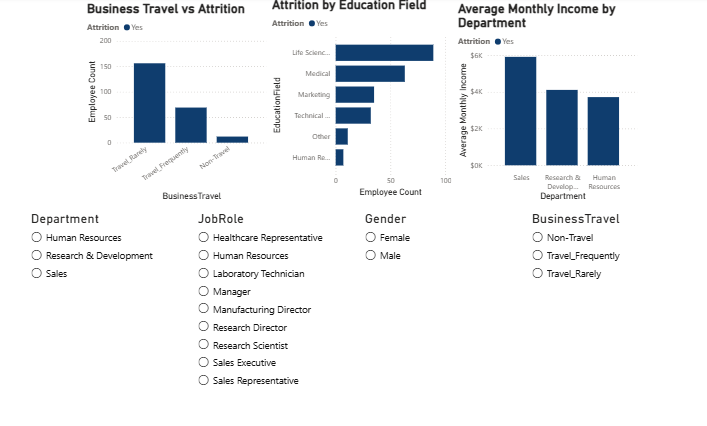

The page's visual inventory and layout, read from the dashboard file:
{"tool":"powerbi","page":{"name":"Page 2","canvas":[1280,720],"ordinal":1},"visuals":[{"type":"group","id":"g1","title":"Group 1","box":[173,0,934,347.7],"z":0},{"type":"clusteredColumnChart","title":"Business Travel vs Attrition","fields":{"Category":["hr_cleaned.BusinessTravel"],"Y":["hr_cleaned.Employee Count"],"Series":["hr_cleaned.Attrition"]},"box":[173,7.4,311.3,340.3],"z":0,"group":"g1"},{"type":"clusteredBarChart","title":"Attrition by Education Field","fields":{"Category":["hr_cleaned.EducationField"],"Y":["hr_cleaned.Employee Count"],"Series":["hr_cleaned.Attrition"]},"box":[484.3,0,311.3,340.3],"z":1000,"group":"g1"},{"type":"clusteredColumnChart","title":"Average Monthly Income by Department","fields":{"Category":["hr_cleaned.Department"],"Y":["hr_cleaned.Average Monthly Income"],"Series":["hr_cleaned.Attrition"]},"box":[795.6,7.4,311.3,340.3],"z":2000,"group":"g1"},{"type":"listSlicer","fields":{"Values":["hr_cleaned.Department"]},"box":[79,359.5,280.5,278.8],"z":3000},{"type":"listSlicer","fields":{"Values":["hr_cleaned.JobRole"]},"box":[359.5,359.5,280.5,329.2],"z":4000},{"type":"listSlicer","fields":{"Values":["hr_cleaned.Gender"]},"box":[640,359.5,280.5,151.2],"z":5000},{"type":"listSlicer","fields":{"Values":["hr_cleaned.BusinessTravel"]},"box":[920.5,359.5,280.5,151.2],"z":6000}]}

Visuals, with their boxes on the page's 1280x720 design canvas (x1, y1, x2, y2). These are canvas units, not pixel positions in the 707x426 screenshot, which may show the page scaled, cropped or inside an application window:
"Group 1" group: bbox(173, 0, 1107, 348)
"Business Travel vs Attrition" clusteredColumnChart: bbox(173, 7, 484, 348)
"Attrition by Education Field" clusteredBarChart: bbox(484, 0, 796, 340)
"Average Monthly Income by Department" clusteredColumnChart: bbox(796, 7, 1107, 348)
listSlicer - hr_cleaned.Department: bbox(79, 360, 360, 638)
listSlicer - hr_cleaned.JobRole: bbox(360, 360, 640, 689)
listSlicer - hr_cleaned.Gender: bbox(640, 360, 920, 511)
listSlicer - hr_cleaned.BusinessTravel: bbox(920, 360, 1201, 511)
